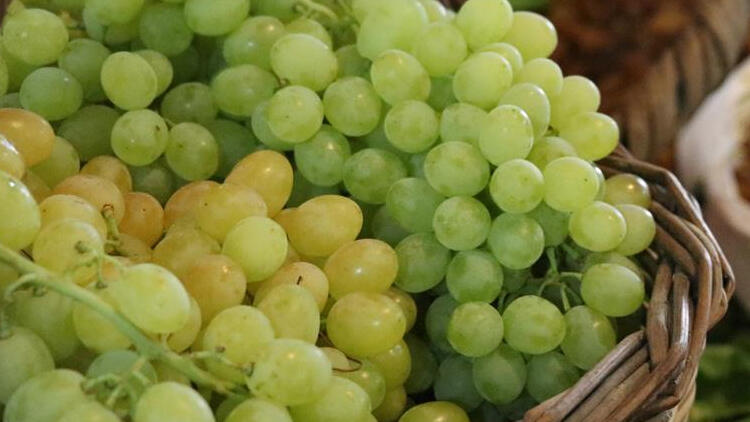Grape: (1, 1, 665, 406), (173, 188, 302, 304), (404, 134, 526, 211), (468, 89, 543, 174), (281, 196, 371, 260)
